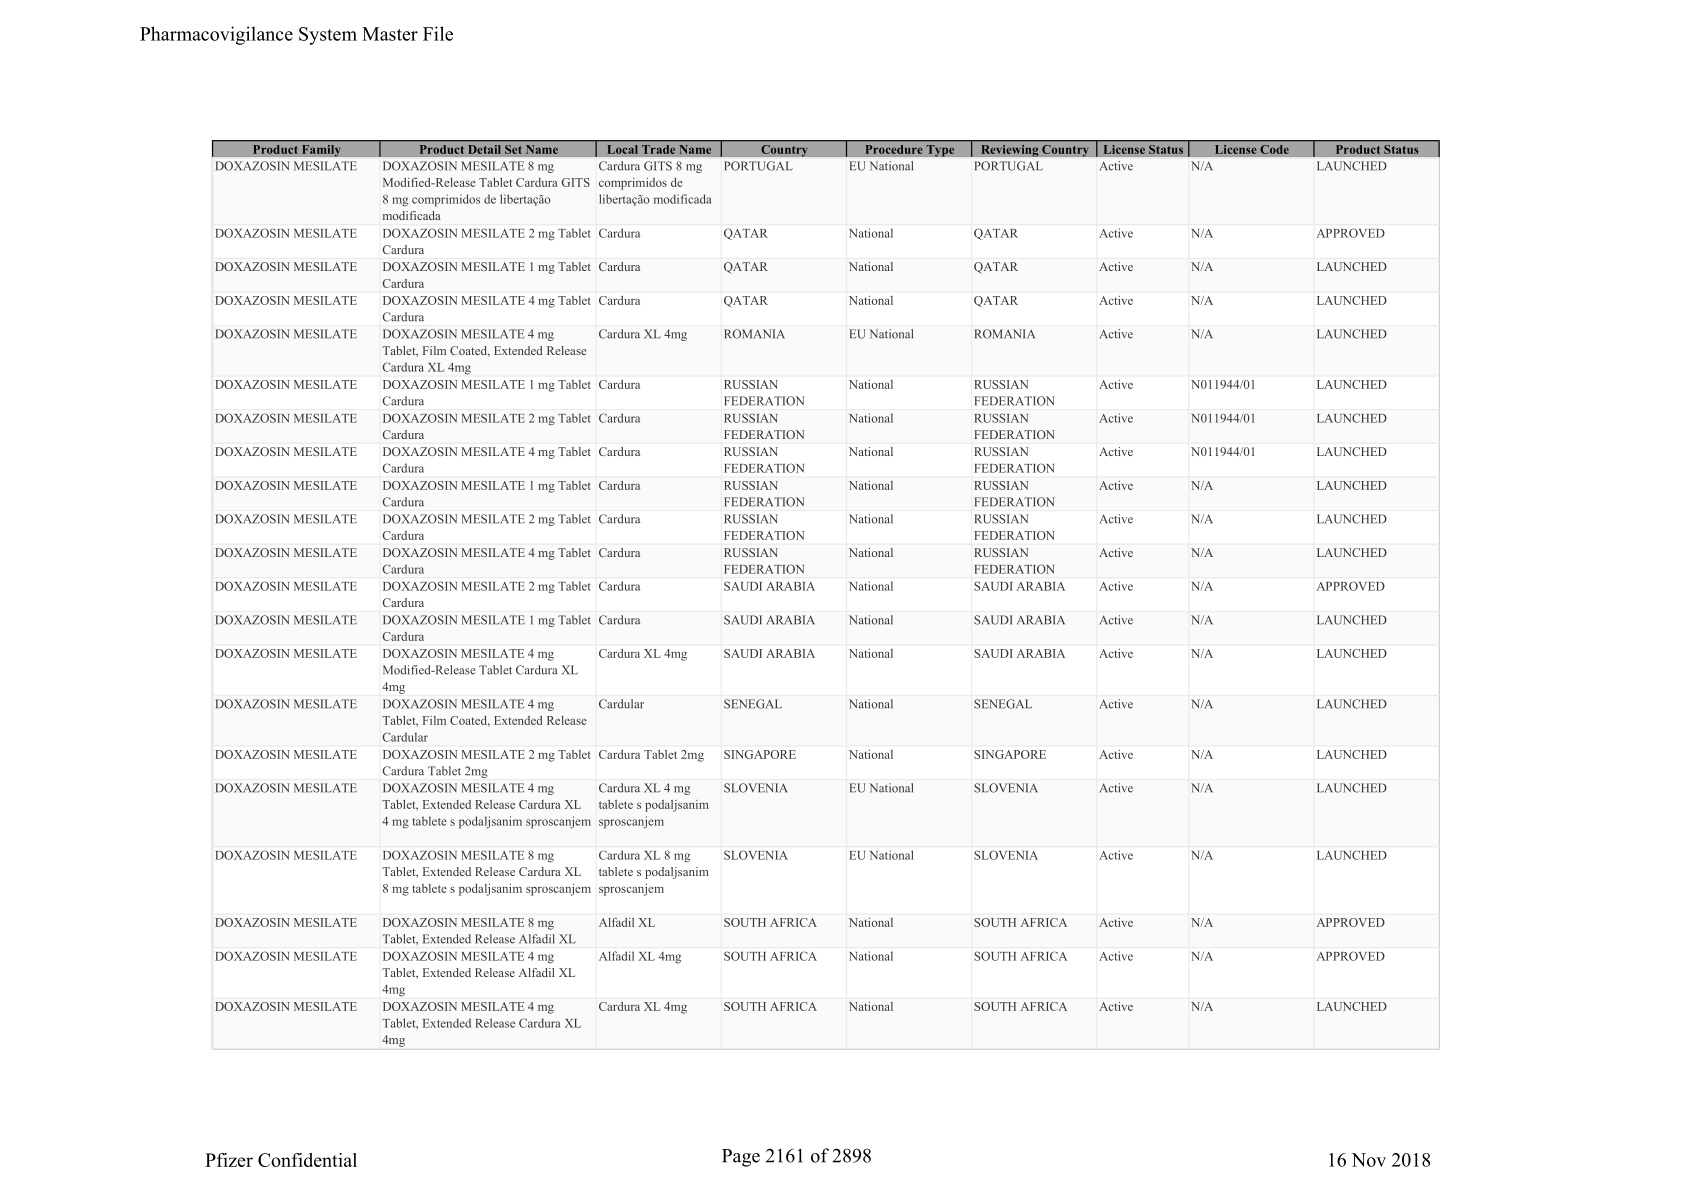full_lined: (211, 138, 1441, 1051)
